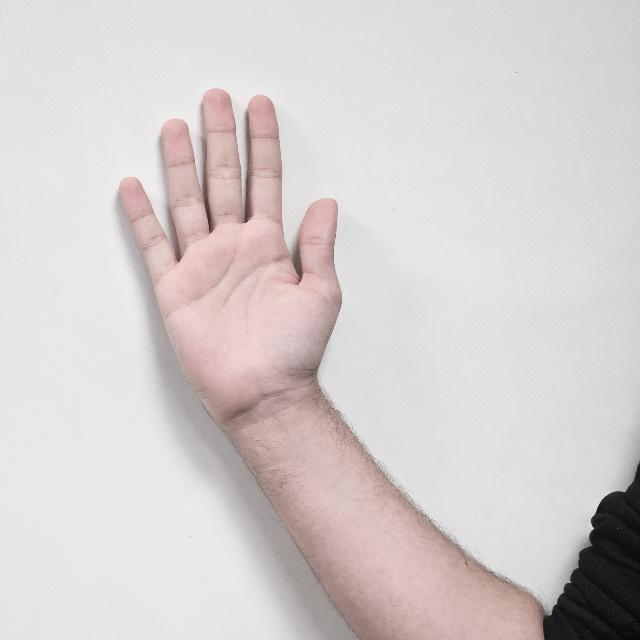X: (114, 86, 342, 434)
